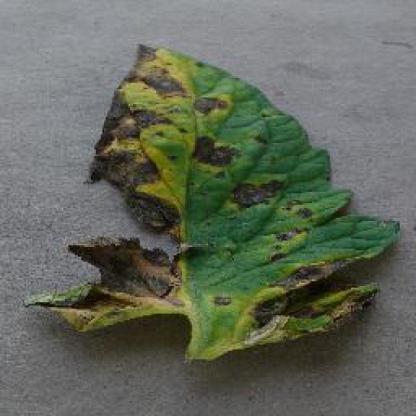Tomato_Blight: (26, 44, 402, 342)
